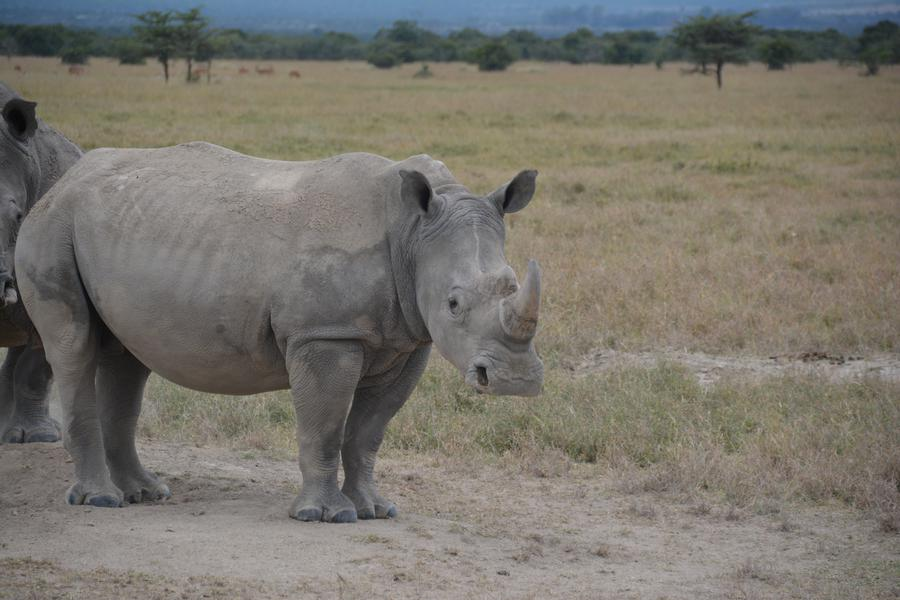rhino: (56, 150, 546, 456)
